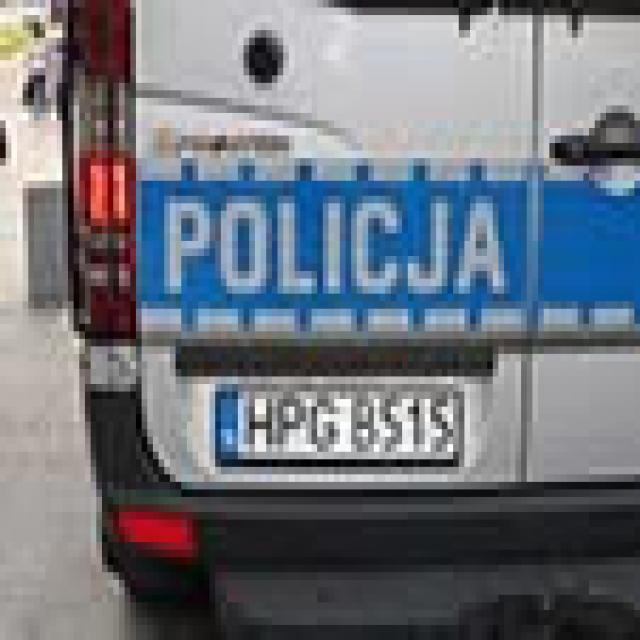pl_license_plate: (210, 376, 458, 452)
